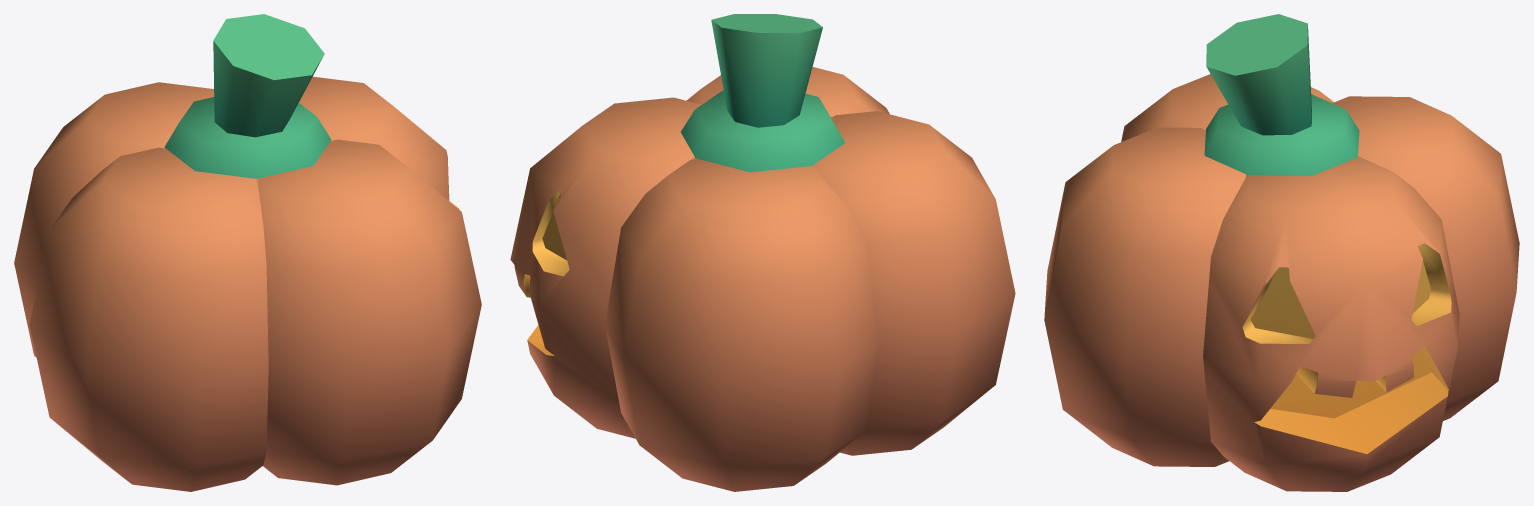
The model's file is pumpkin-carved.004_lev3.glb.
3 renders of one model, left to right at view 1: azimuth 30°, elevation 25°; view 2: azimuth 150°, elevation 25°; view 3: azimuth 270°, elevation 25°, orthographic.
Parts seen in each view (by area): view 1: pumpkin-carved.004_lev3; view 2: pumpkin-carved.004_lev3; view 3: pumpkin-carved.004_lev3.
Part boxes in pixels (x1,y1,x2,y2): pumpkin-carved.004_lev3: (14,14,481,491); pumpkin-carved.004_lev3: (510,14,1015,491); pumpkin-carved.004_lev3: (1044,14,1519,491).
Size of the model in its own units: 3.39 by 3.09 by 3.39.
Materials: 1 (1 with a texture image).
